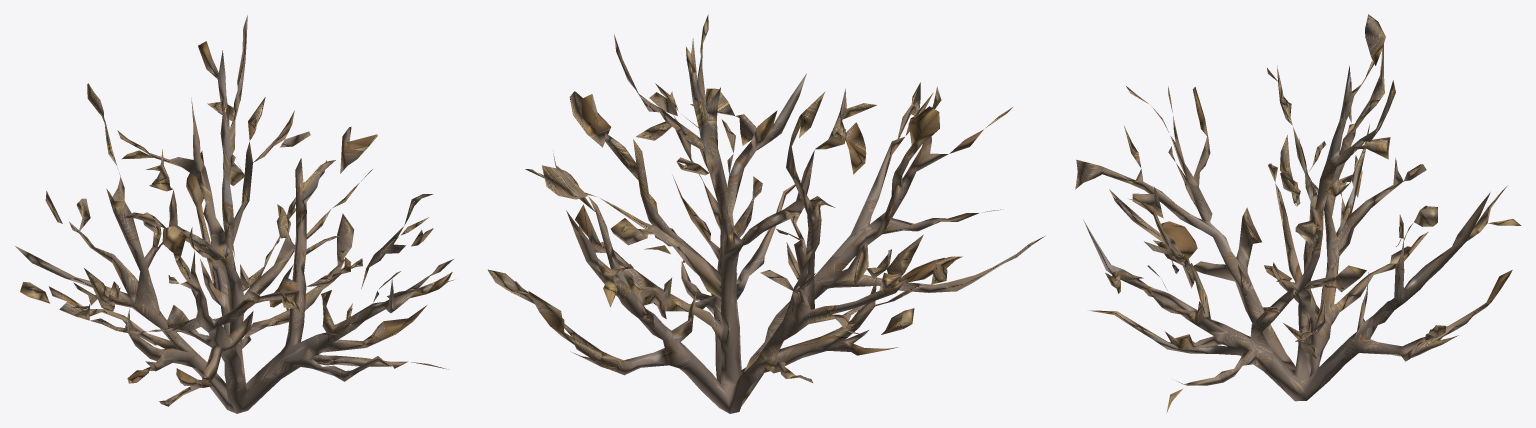
File: shrub.glb
The picture shows the model from 3 angles, left to right: view 1: azimuth 30°, elevation 25°; view 2: azimuth 150°, elevation 25°; view 3: azimuth 270°, elevation 25°; orthographic projection. The views are drawn at different scales.
Visible parts, largest first — view 1: tripo_node_de44d101-bbdb-47e1-97e3-ce0f389303fb; view 2: tripo_node_de44d101-bbdb-47e1-97e3-ce0f389303fb; view 3: tripo_node_de44d101-bbdb-47e1-97e3-ce0f389303fb.
Boxes of the visible parts, x1,y1,x2,y2 form: tripo_node_de44d101-bbdb-47e1-97e3-ce0f389303fb: [15, 15, 454, 413]; tripo_node_de44d101-bbdb-47e1-97e3-ce0f389303fb: [488, 14, 1044, 413]; tripo_node_de44d101-bbdb-47e1-97e3-ce0f389303fb: [1075, 14, 1521, 412].
Size of the model in its own units: 0.8863 by 0.8492 by 0.9939.
Materials: 1 (1 with a texture image).
